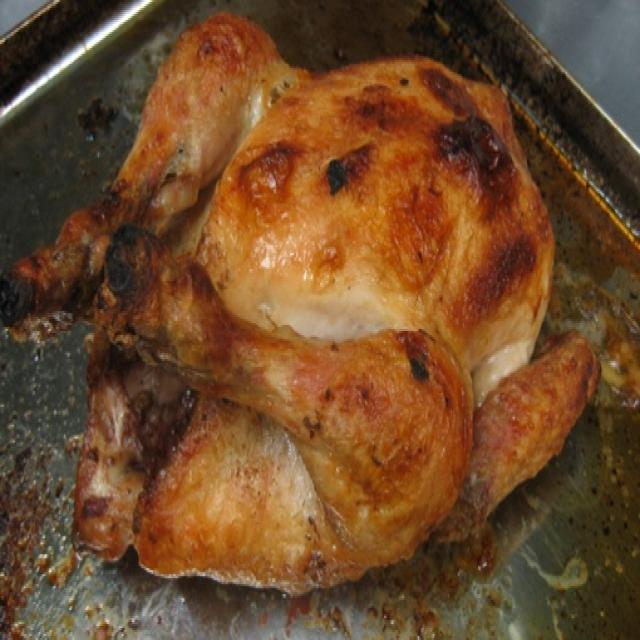Chicken: (71, 32, 595, 591)
